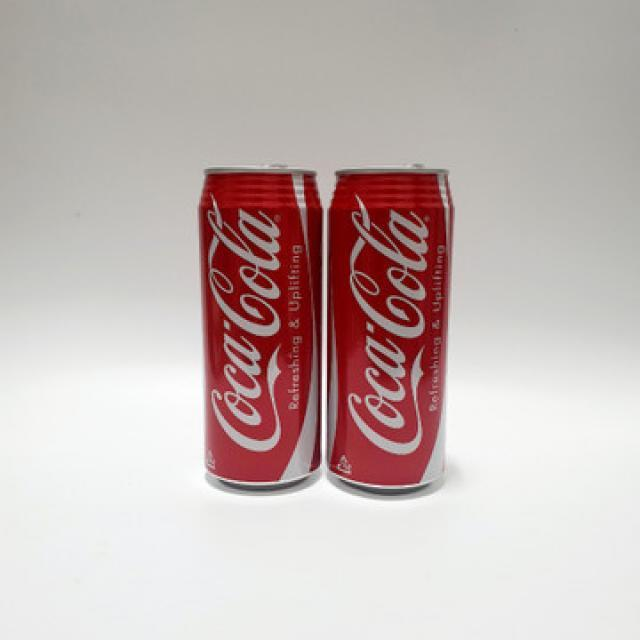coca-cola: (196, 163, 324, 495), (330, 162, 456, 494)
